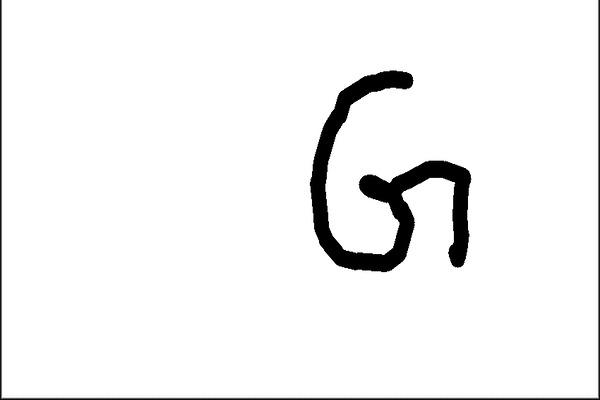G: (305, 65, 478, 277)
